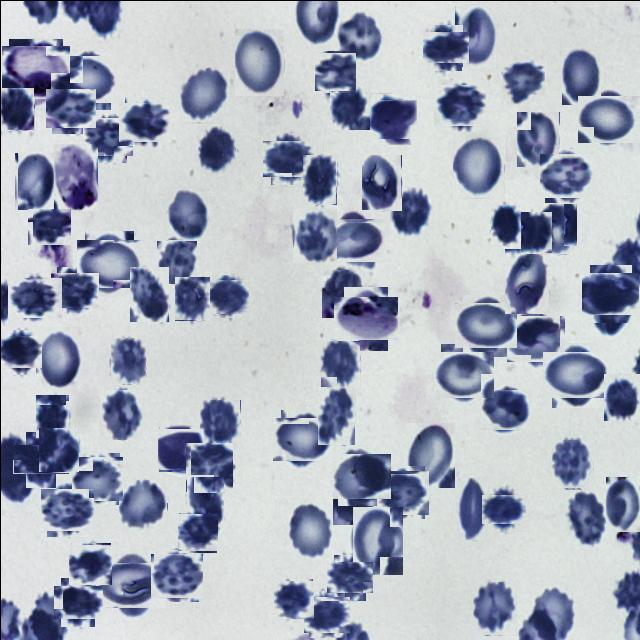difficult: (5, 42, 66, 102)
red blood cell: (352, 506, 403, 575), (233, 28, 284, 96), (80, 234, 138, 292), (101, 556, 159, 614), (452, 136, 504, 198), (405, 422, 454, 487), (546, 347, 602, 402), (580, 92, 636, 146), (60, 51, 114, 106), (458, 298, 512, 352), (436, 347, 490, 400), (504, 248, 548, 313), (35, 326, 81, 388), (509, 311, 561, 364), (334, 449, 386, 502), (179, 66, 228, 122), (286, 501, 332, 560), (276, 413, 328, 465), (328, 213, 380, 265), (452, 5, 494, 66), (118, 478, 168, 528), (585, 268, 635, 318), (335, 10, 384, 61), (332, 466, 375, 524), (14, 152, 57, 210), (516, 111, 559, 167), (152, 550, 200, 600), (588, 273, 628, 333), (542, 150, 590, 200), (292, 208, 336, 262), (472, 581, 516, 635), (378, 467, 426, 516), (565, 489, 607, 545), (72, 454, 120, 502), (42, 485, 90, 533), (184, 442, 232, 490), (561, 46, 600, 104), (10, 273, 58, 320), (99, 389, 143, 440), (317, 386, 355, 445), (360, 154, 400, 210), (129, 266, 168, 321), (167, 188, 208, 240), (482, 386, 528, 432), (436, 82, 482, 128), (367, 96, 413, 142), (121, 99, 167, 145), (551, 438, 593, 488), (320, 338, 360, 389), (84, 114, 129, 159), (48, 85, 93, 130), (456, 477, 488, 540), (321, 269, 363, 317), (186, 476, 224, 529), (199, 399, 240, 448), (389, 186, 429, 236), (501, 59, 545, 104), (605, 476, 640, 532), (266, 136, 310, 180), (157, 426, 200, 471), (197, 125, 236, 174), (329, 82, 369, 129), (18, 437, 61, 480), (540, 203, 576, 254), (53, 269, 95, 311), (69, 543, 111, 585), (38, 427, 78, 471), (56, 581, 98, 622), (156, 240, 196, 283), (302, 154, 336, 204), (603, 373, 639, 420), (110, 337, 146, 384), (306, 593, 346, 634), (273, 578, 313, 618), (315, 51, 355, 91), (28, 206, 68, 246), (174, 276, 210, 320), (178, 512, 216, 552), (35, 394, 69, 438), (329, 558, 368, 596), (0, 87, 34, 130), (208, 276, 246, 314), (484, 490, 522, 528), (426, 28, 464, 66), (0, 333, 38, 371), (520, 211, 552, 253), (490, 202, 520, 245)
trophozoite: (53, 143, 97, 210), (338, 291, 392, 345)
